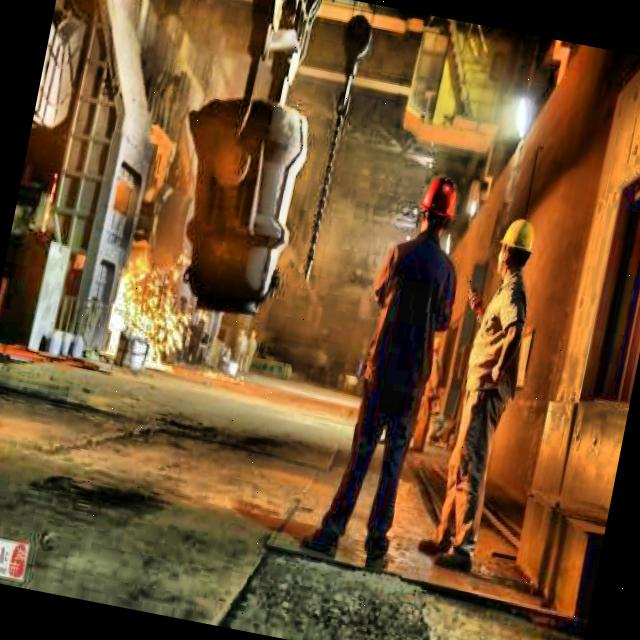helmet: (490, 214, 540, 292), (414, 176, 458, 248)
